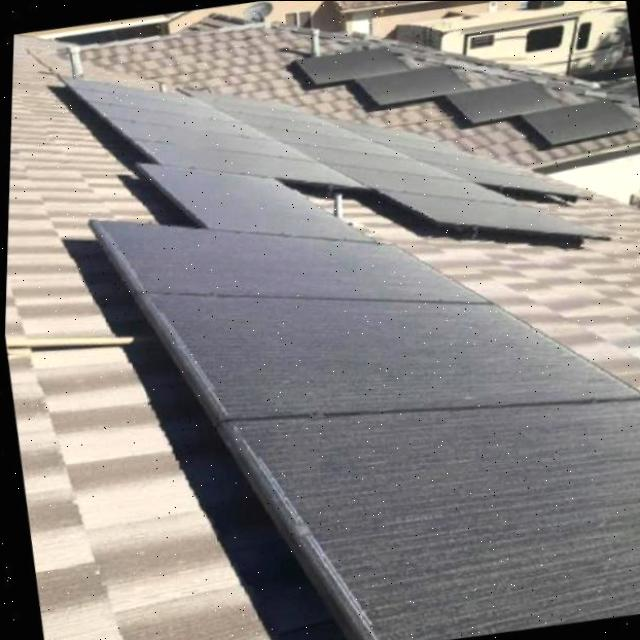Surface Contaminant: (224, 391, 640, 640), (55, 74, 609, 233), (138, 288, 640, 417), (90, 215, 492, 298), (129, 161, 379, 239)
